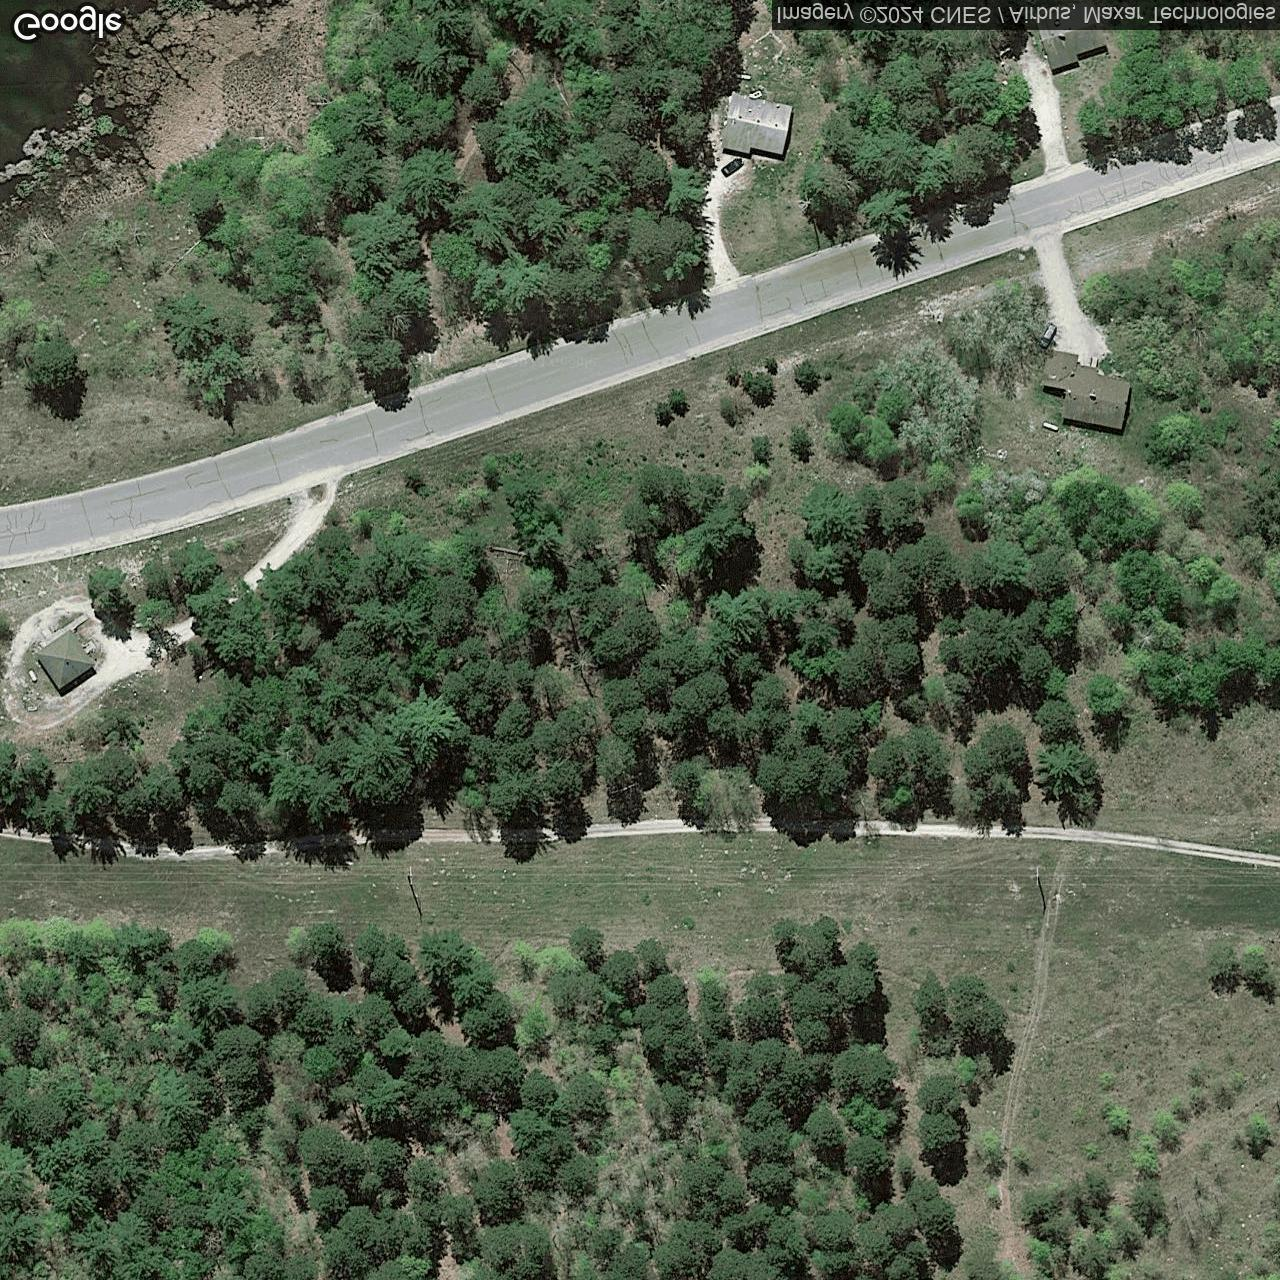House: (1039, 349, 1132, 431), (720, 90, 795, 155), (33, 628, 97, 692), (1037, 30, 1108, 72)
Propane: (1040, 420, 1061, 435), (26, 666, 39, 686), (735, 72, 753, 82)
